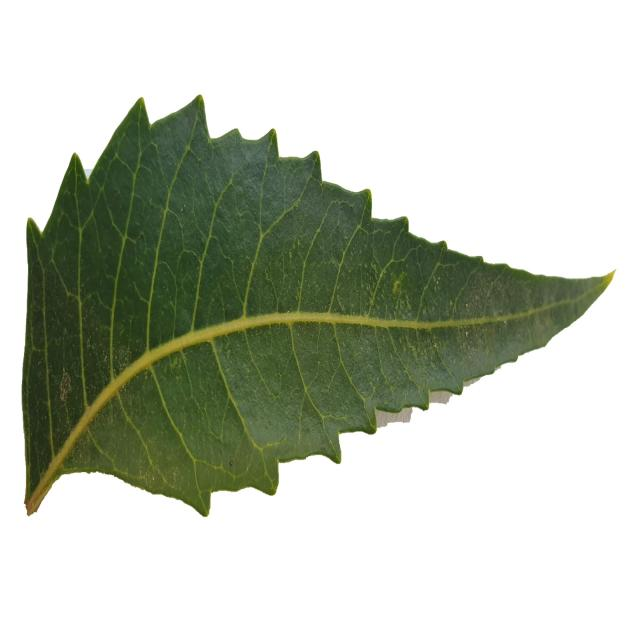Medicinal-Neem: (18, 94, 617, 516)
